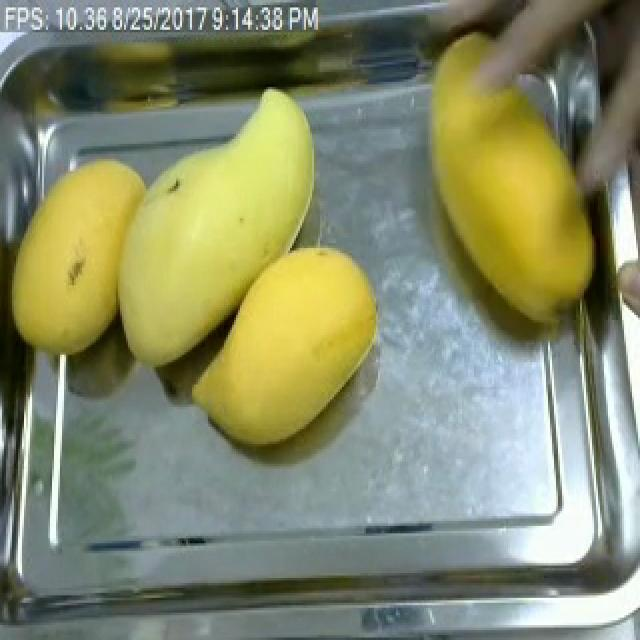fruit: (0, 142, 334, 384), (404, 12, 612, 345), (180, 234, 394, 462)
